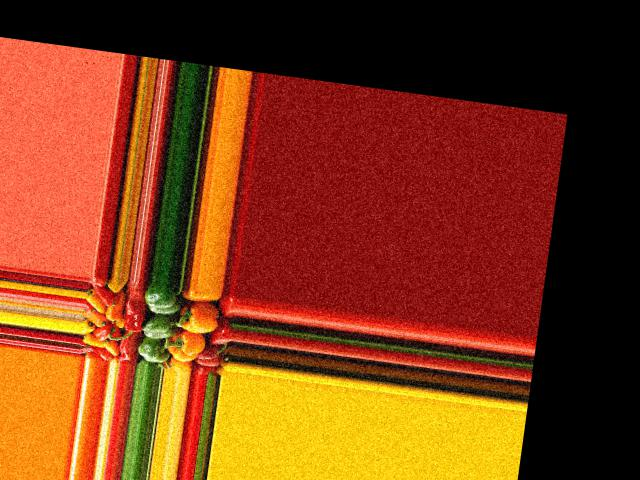bell_pepper: (89, 282, 119, 308)
